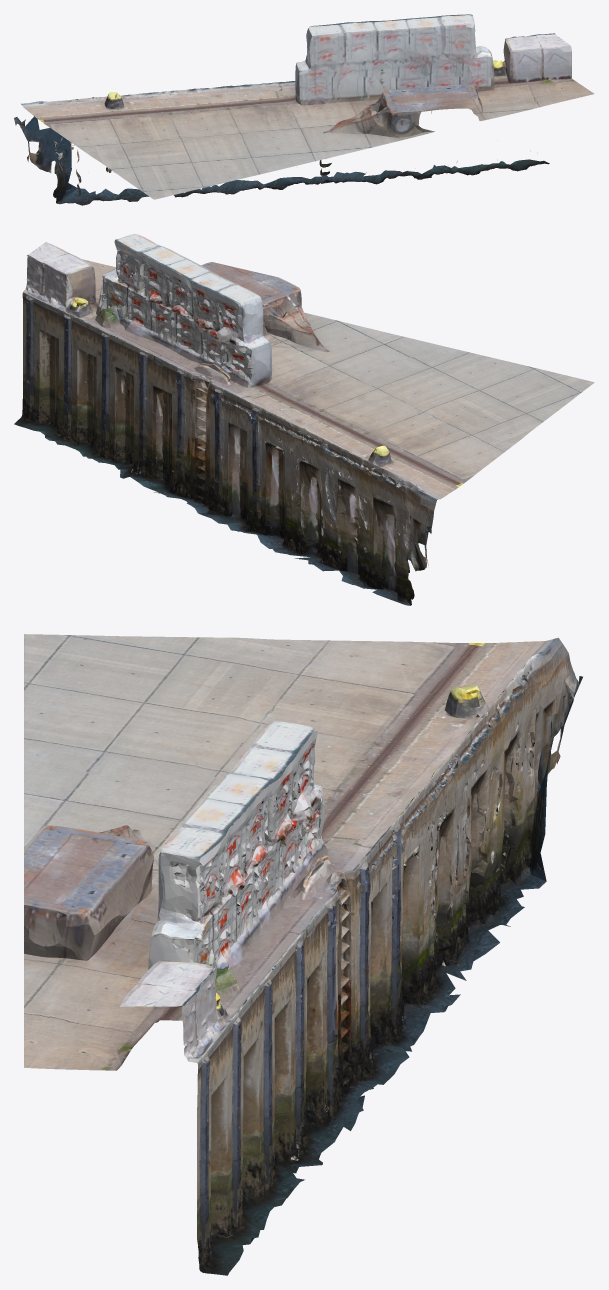
The picture shows the model from 3 angles, top to bottom: view 1: azimuth 30°, elevation 25°; view 2: azimuth 150°, elevation 25°; view 3: azimuth 270°, elevation 25°; orthographic projection. The views are drawn at different scales.
Size of the model in its own units: 16.71 by 6.25 by 9.2.
Materials: 3 (3 with a texture image).
